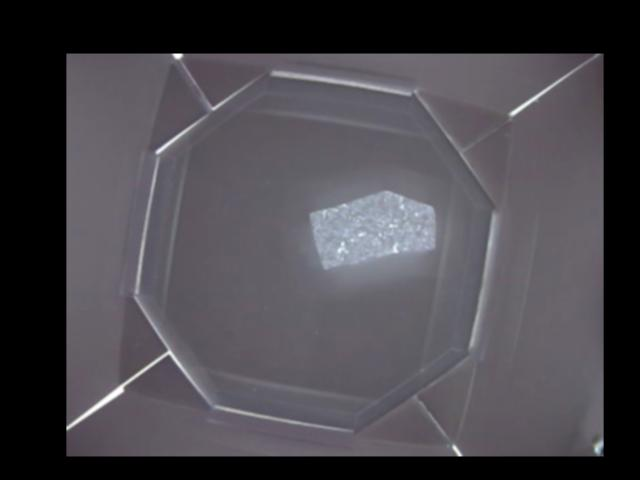China: (307, 189, 432, 270)
